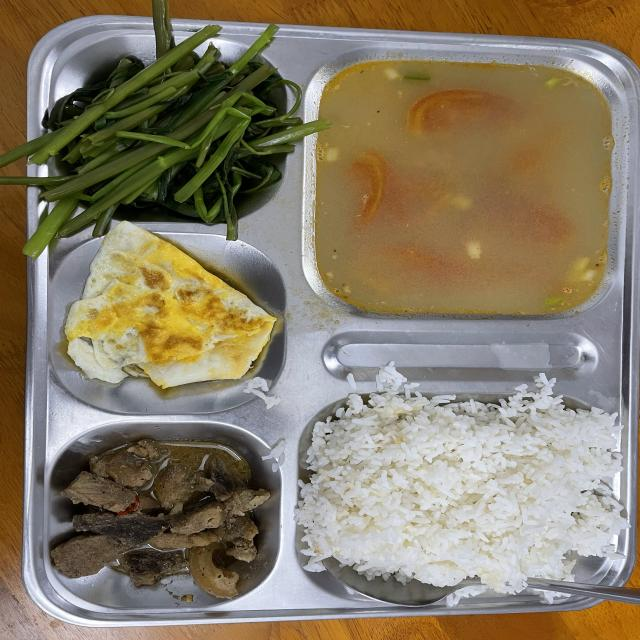canh_chua: (347, 77, 592, 300)
com_trang: (314, 401, 616, 587)
rau_muong_xao: (68, 57, 288, 201)
thit_kho: (82, 444, 254, 585)
trung_chien: (88, 240, 267, 390)
